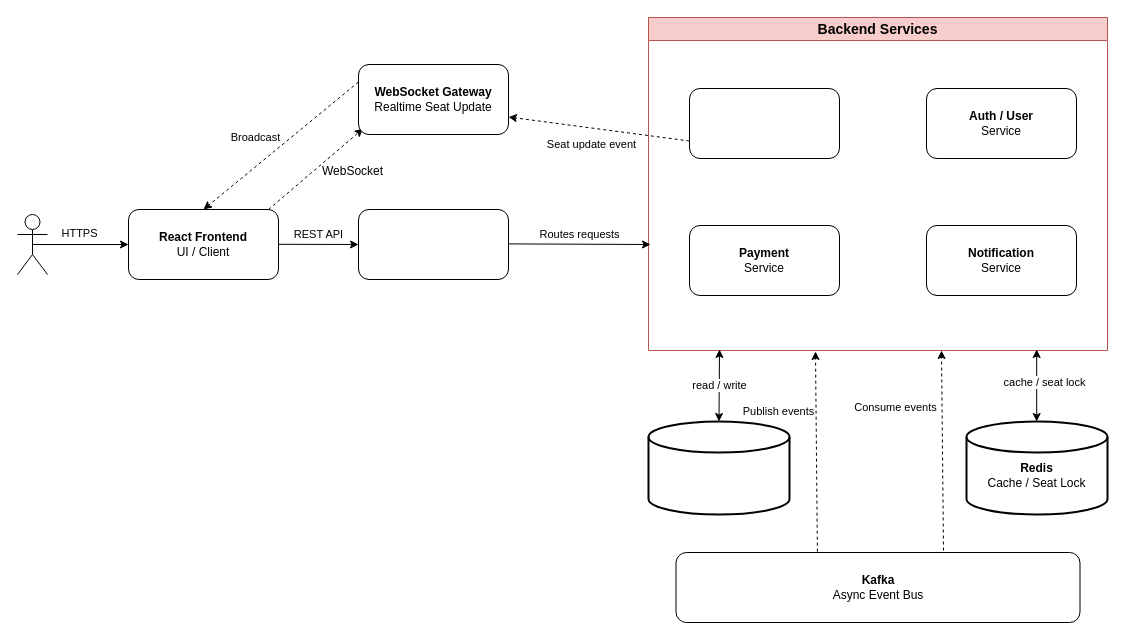
Image size: 1126x640. Some labels were removed from this diagram. Each missing label, with the box of its shape:
API Gateway Routing / Auth / Rate Limit: (358, 208, 508, 280)
Booking / Seat Service: (688, 88, 840, 158)
MySQL Main database: (647, 420, 790, 515)
User: (16, 214, 48, 274)
